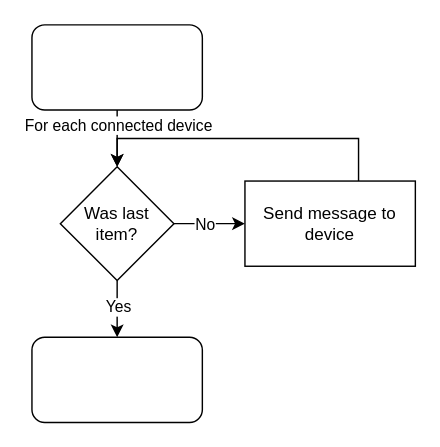
This 440x447 diagram has some shape labels left out. Each missing label, with the box of its shape:
End: (31, 336, 202, 422)
Send a message: (31, 23, 202, 110)
